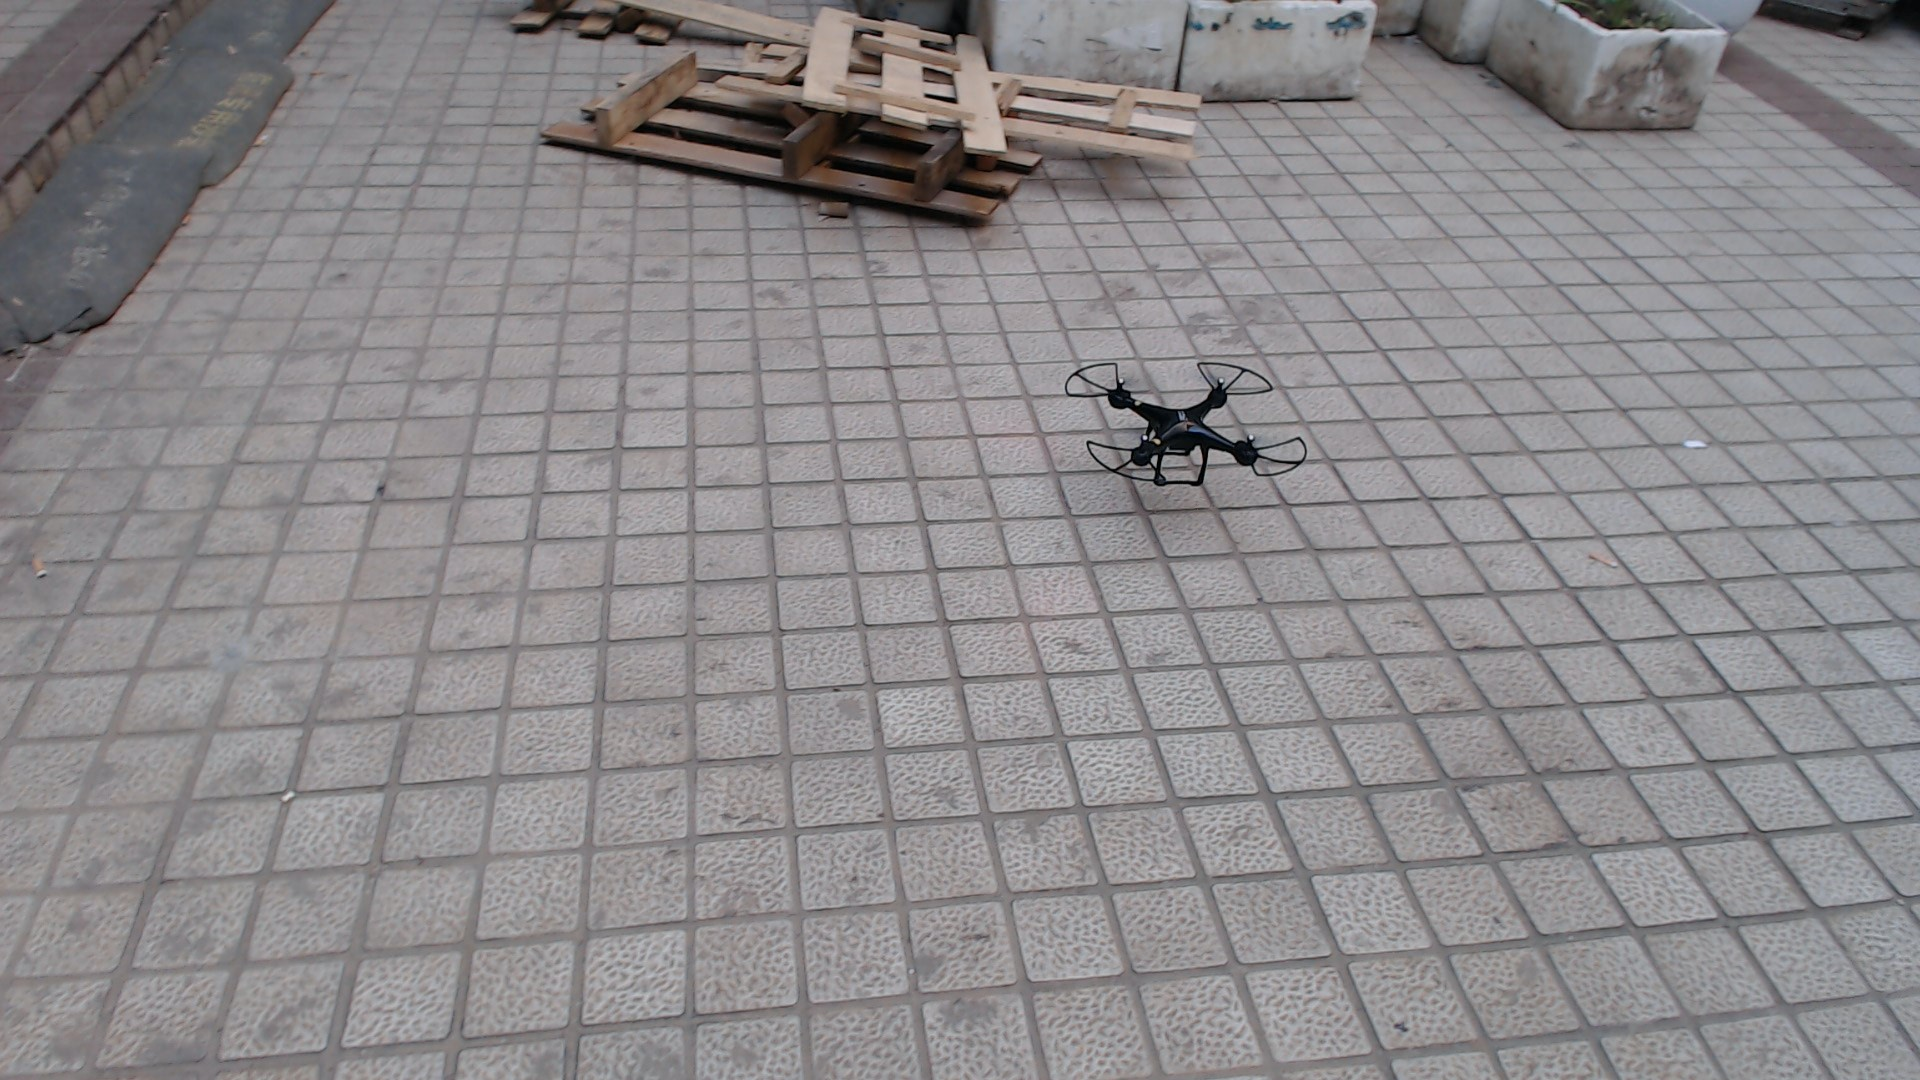drone: (1044, 314, 1329, 518)
